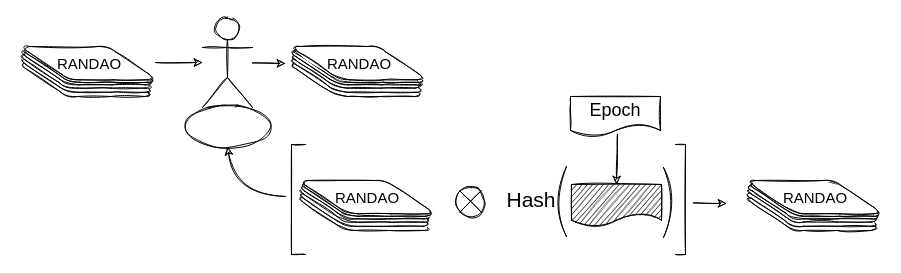
This 901x273 diagram has some shape labels left out. The centre of each missing label's shape, as x and y in pixels:
"Shuffle" belongs at [227,126].
"Signature" belongs at [616,205].
